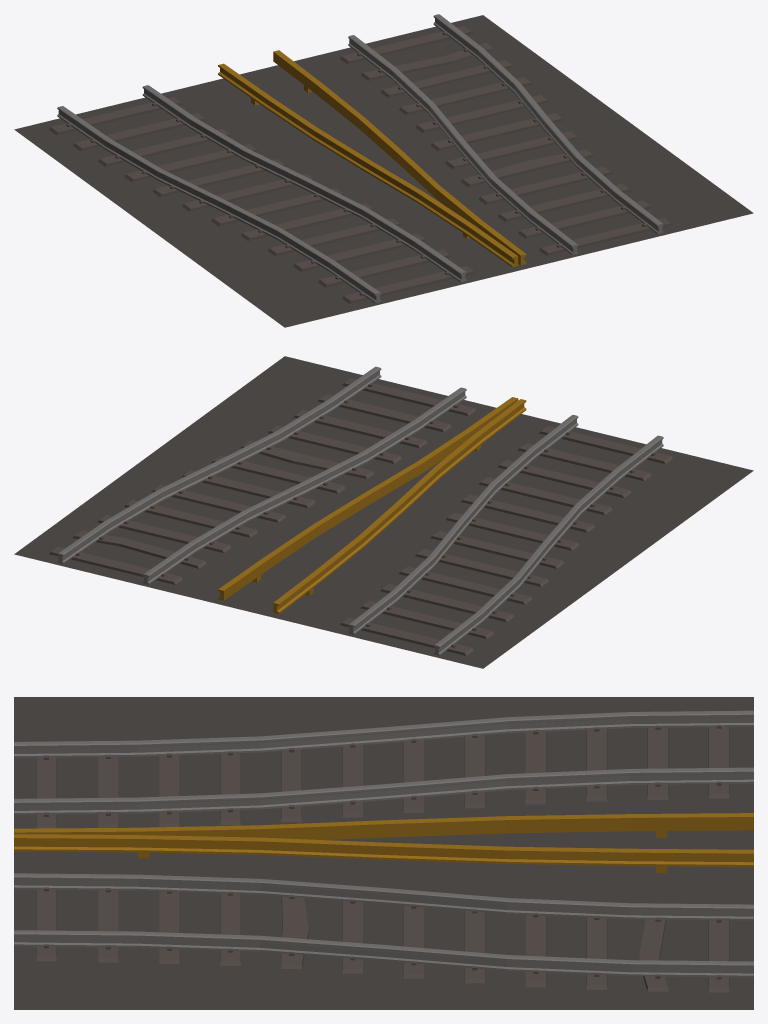
The model's file is SM_Train_Track_Onground_02.fbx.
The picture shows the model from 3 angles, top to bottom: view 1: azimuth 30°, elevation 25°; view 2: azimuth 150°, elevation 25°; view 3: azimuth 270°, elevation 25°; orthographic projection. The views are drawn at different scales.
Parts seen in each view (by area): view 1: SM_Train_Track_Onground_02; view 2: SM_Train_Track_Onground_02; view 3: SM_Train_Track_Onground_02.
Boxes of the visible parts, bbox=[...] form: SM_Train_Track_Onground_02: bbox=[14, 14, 753, 327]; SM_Train_Track_Onground_02: bbox=[14, 356, 753, 668]; SM_Train_Track_Onground_02: bbox=[14, 697, 753, 1009].
Bounding box in the file's own units: 1000 × 30 × 1000.
